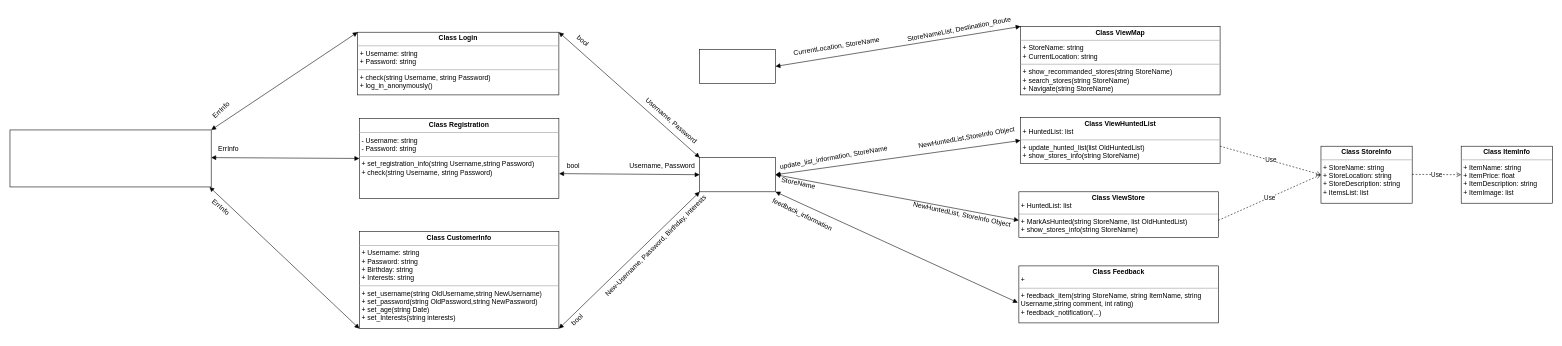
This 1562x346 diagram has some shape labels left out. The centre of each missing label's shape, as x and y in pixels:
"Algorithm" goes at point 737,66.
"Class Warning + LoginErrCnt: int + + pop_warning_window(string ErrInfo)" goes at point 110,158.
"Database" goes at point 737,174.
